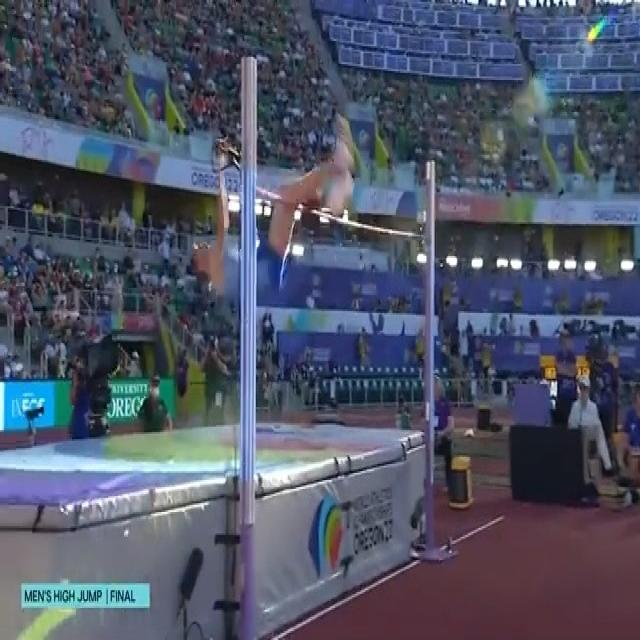land: (190, 118, 355, 303)
